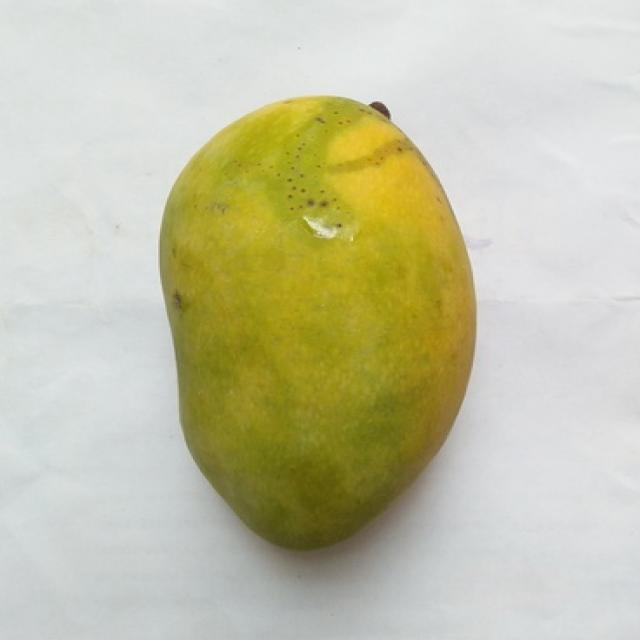Mango: (160, 97, 471, 549)
